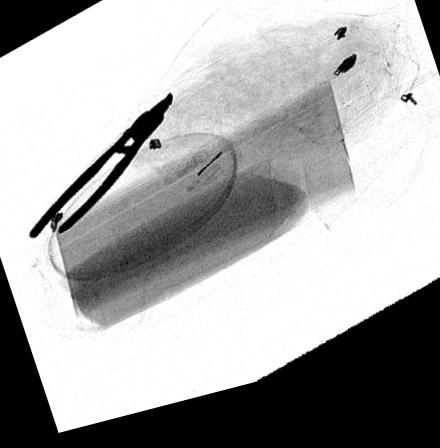Pliers: (28, 99, 174, 239)
